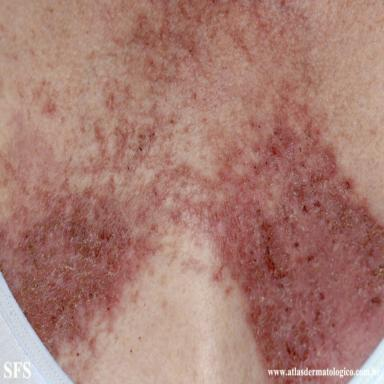Darier_s-Disease: (0, 1, 384, 384)
